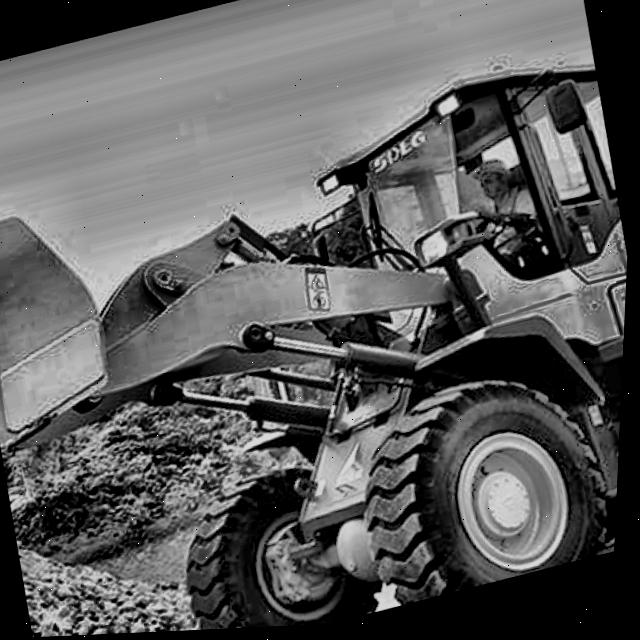buldozerpayloadergrader: (0, 29, 638, 640)
